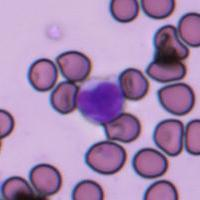L: (76, 78, 125, 125)
